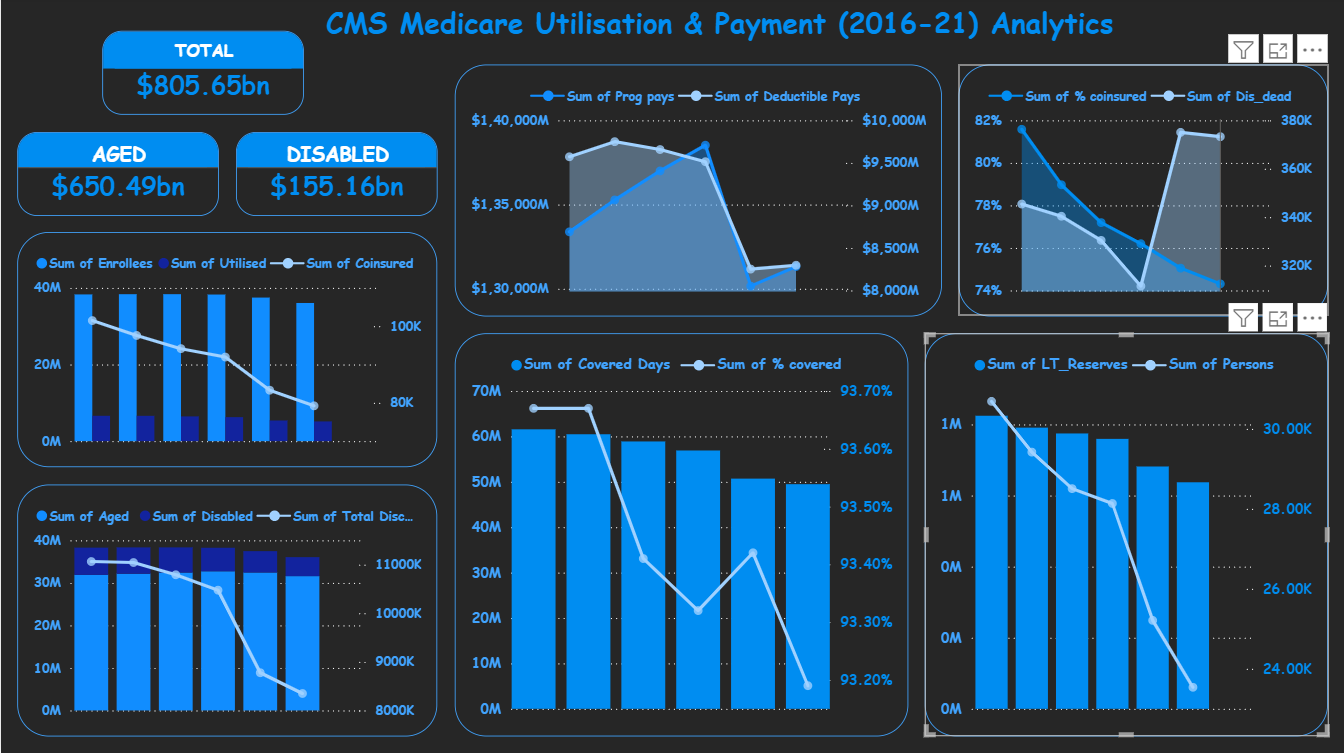

This screenshot's page, from the dashboard's own definition file:
{"tool":"powerbi","page":{"name":"Page 1","canvas":[1280,720],"ordinal":0},"visuals":[{"type":"lineStackedColumnComboChart","fields":{"Category":["Aged beneficiaries.Type of Entitlement and Calendar Year"],"Y":["Sum(Aged beneficiaries.Aged beneficiaries)","Sum(Disabled beneficiaries.Disabled beneficiaries)"],"Y2":["Sum(All beneficiaries.Total Discharges)"]},"box":[16,464,400,240],"z":0},{"type":"lineClusteredColumnComboChart","fields":{"Category":["All beneficiaries.Type of Entitlement and Calendar Year"],"Y":["Sum(All beneficiaries.Total enrollees)","Sum(All beneficiaries.Persons utilised)"],"Y2":["Sum(All beneficiaries.Persons With Coinsurance¹)"]},"box":[16,224,400,224],"z":1000},{"type":"lineChart","fields":{"Category":["All beneficiaries.Type of Entitlement and Calendar Year"],"Y":["Sum(All beneficiaries.Total Program Payments)"],"Y2":["Sum(All beneficiaries.Total Deductible Payments)"]},"box":[432,64,464,240],"z":2000},{"type":"lineClusteredColumnComboChart","fields":{"Y":["Sum(All beneficiaries.Covered Days of Care)"],"Category":["All beneficiaries.Type of Entitlement and Calendar Year"],"Y2":["Sum(All beneficiaries.% of covered days)"]},"box":[432,320,432,384],"z":3000},{"type":"lineChart","fields":{"Y":["Sum(All beneficiaries.% of coinsured payments)"],"Category":["All beneficiaries.Type of Entitlement and Calendar Year"],"Y2":["Sum(All beneficiaries.Discharged Dead)"]},"box":[912,64,352,240],"z":4000},{"type":"lineClusteredColumnComboChart","fields":{"Category":["All beneficiaries.Type of Entitlement and Calendar Year"],"Y":["Sum(All beneficiaries.Total Lifetime Reserve Days)"],"Y2":["Sum(All beneficiaries.Persons with Lifetime Reserve Days²)"]},"box":[880,320,384,384],"z":5000},{"type":"textbox","box":[16,0,1056,64],"z":6000},{"type":"card","title":"TOTAL","fields":{"Values":["Sum(All beneficiaries.Prog pays)"]},"box":[96,32,192,80],"z":6001},{"type":"card","title":"AGED","fields":{"Values":["Sum(Aged beneficiaries.Total Program Payments)"]},"box":[16,128,192,80],"z":6002},{"type":"card","title":"DISABLED","fields":{"Values":["Sum(Disabled beneficiaries.Total Program Payments)"]},"box":[224,128,192,80],"z":6003}]}

Visuals, with their boxes in screenshot pixels (x1, y1, x2, y2), scaled from the page's 1280x720 canvas onto the 1344x753 screenshot:
lineStackedColumnComboChart - Aged beneficiaries.Type of Entitlement and Calendar Year x Sum(Aged beneficiaries.Aged beneficiaries): pyautogui.locateOnScreen(17, 485, 437, 736)
lineClusteredColumnComboChart - All beneficiaries.Type of Entitlement and Calendar Year x Sum(All beneficiaries.Total enrollees): pyautogui.locateOnScreen(17, 234, 437, 469)
lineChart - All beneficiaries.Type of Entitlement and Calendar Year x Sum(All beneficiaries.Total Program Payments): pyautogui.locateOnScreen(454, 67, 941, 318)
lineClusteredColumnComboChart - Sum(All beneficiaries.Covered Days of Care) x All beneficiaries.Type of Entitlement and Calendar Year: pyautogui.locateOnScreen(454, 335, 907, 736)
lineChart - Sum(All beneficiaries.% of coinsured payments) x All beneficiaries.Type of Entitlement and Calendar Year: pyautogui.locateOnScreen(958, 67, 1327, 318)
lineClusteredColumnComboChart - All beneficiaries.Type of Entitlement and Calendar Year x Sum(All beneficiaries.Total Lifetime Reserve Days): pyautogui.locateOnScreen(924, 335, 1327, 736)
textbox: pyautogui.locateOnScreen(17, 0, 1126, 67)
"TOTAL" card: pyautogui.locateOnScreen(101, 33, 302, 117)
"AGED" card: pyautogui.locateOnScreen(17, 134, 218, 218)
"DISABLED" card: pyautogui.locateOnScreen(235, 134, 437, 218)
